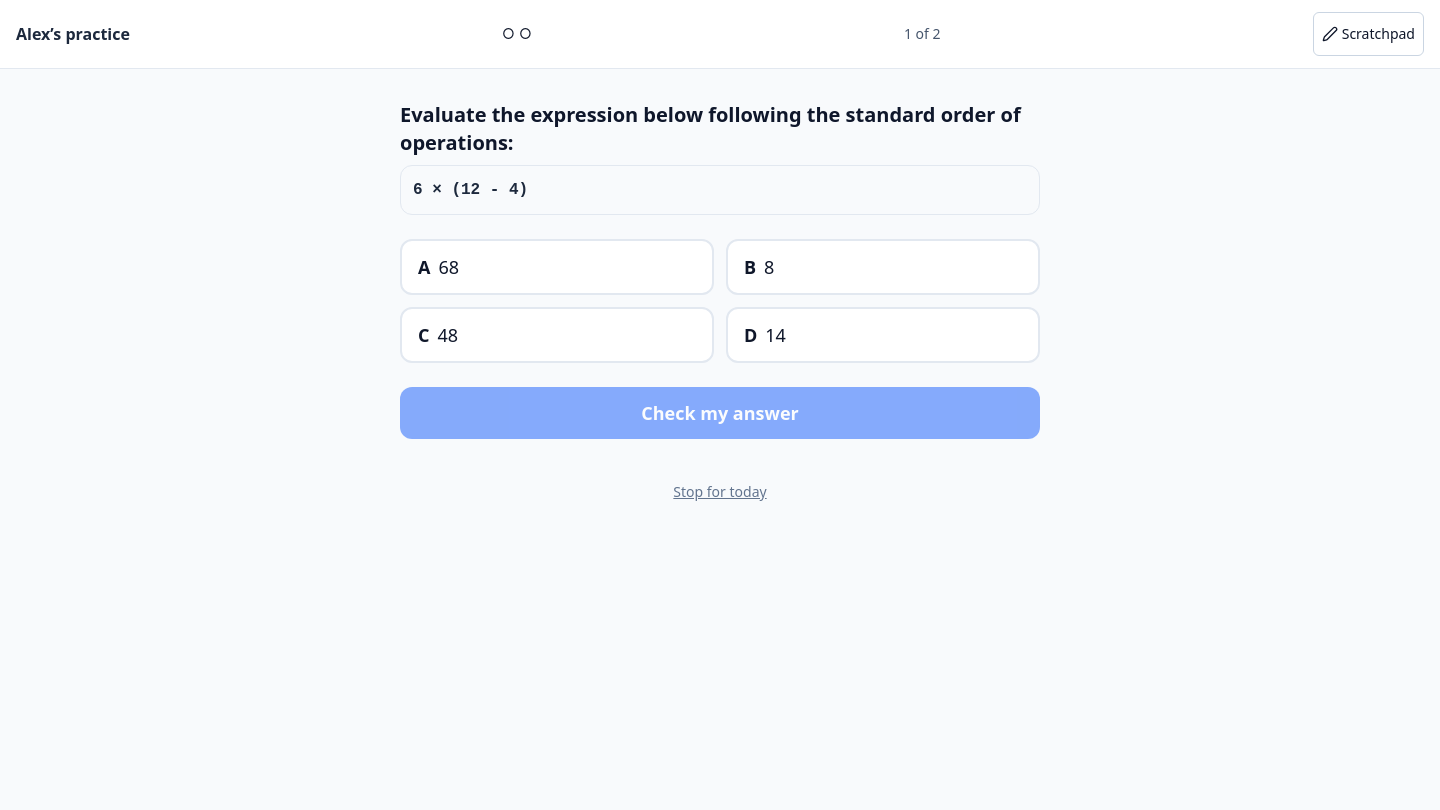
Test case: KidPractice accessibility (logic-flows Medium) › spec 2.6: the stop confirm says answers are saved and counted
Click the button "Stop for today": (720, 492) [673,482,767,502]
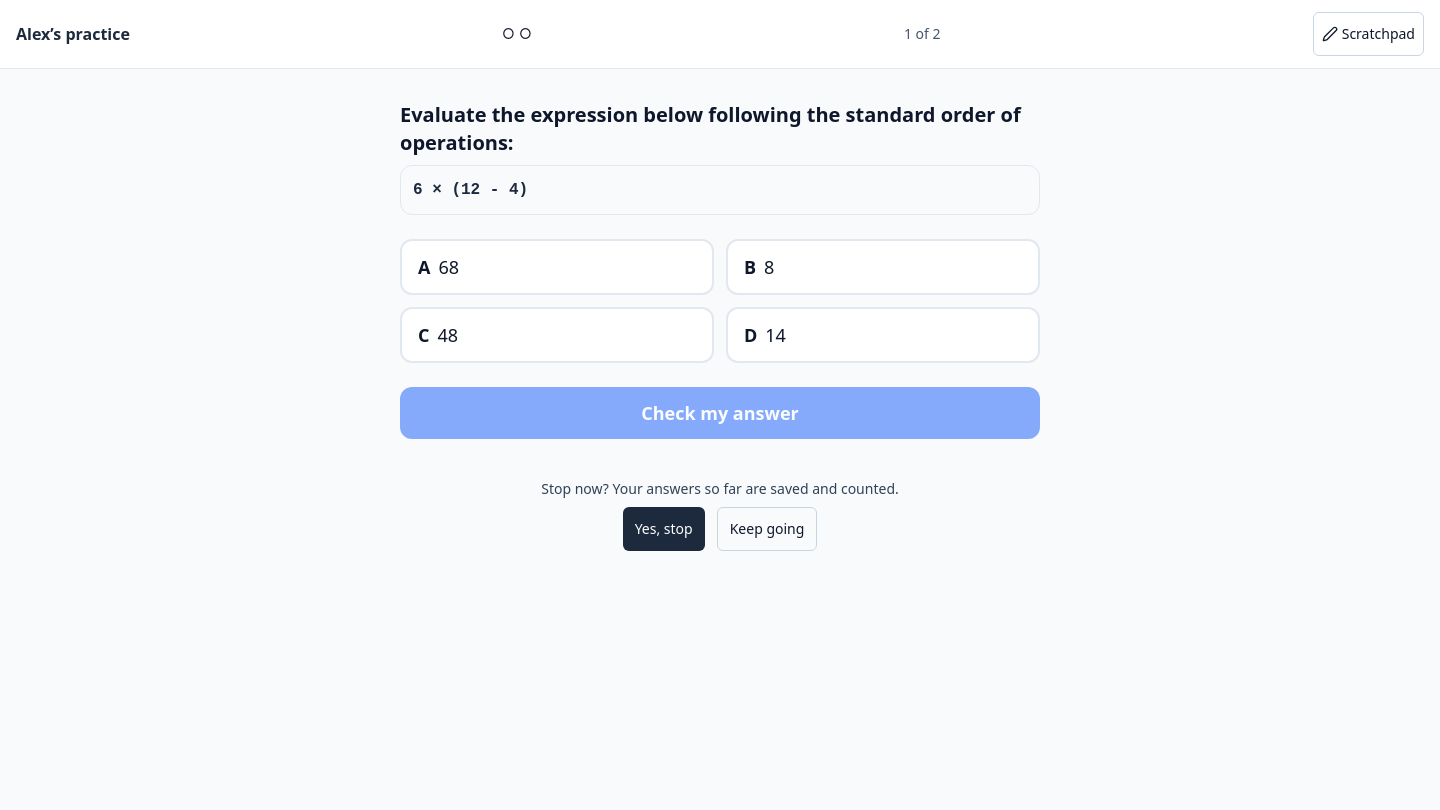
Expected: the text "Stop now? Your answers so far are saved and counted." is shown, [541,479,899,498]
